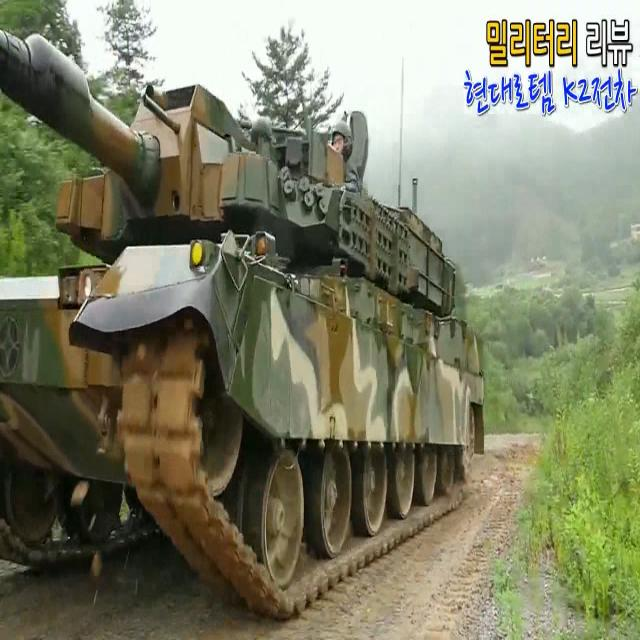korea tank: (1, 27, 487, 618)
